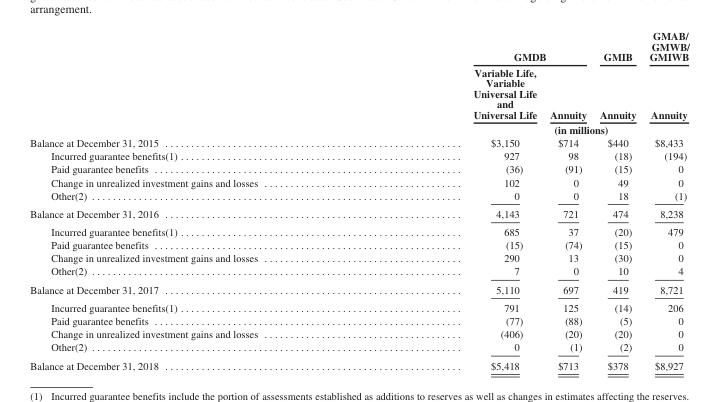table: (29, 29, 689, 370)
table column: (29, 29, 364, 370), (364, 29, 542, 370), (542, 29, 592, 370), (592, 29, 642, 370), (642, 29, 689, 370)
table column header: (29, 29, 689, 136)
table row: (29, 64, 689, 121), (29, 29, 689, 64), (29, 279, 689, 298), (29, 204, 689, 222), (29, 188, 689, 204), (29, 222, 689, 238), (29, 121, 689, 136), (29, 264, 689, 279), (29, 298, 689, 313), (29, 340, 689, 355), (29, 355, 689, 370), (29, 313, 689, 327), (29, 136, 689, 149), (29, 149, 689, 162), (29, 162, 689, 175), (29, 175, 689, 188), (29, 238, 689, 251), (29, 251, 689, 264), (29, 327, 689, 340)
table spanning cell: (364, 29, 592, 64), (364, 121, 689, 136), (592, 29, 642, 121), (642, 29, 689, 121)
